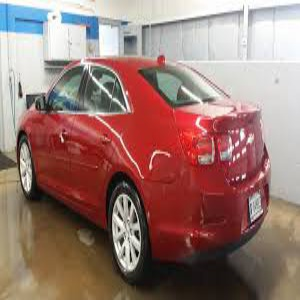door_scratch: (80, 120, 166, 174)
